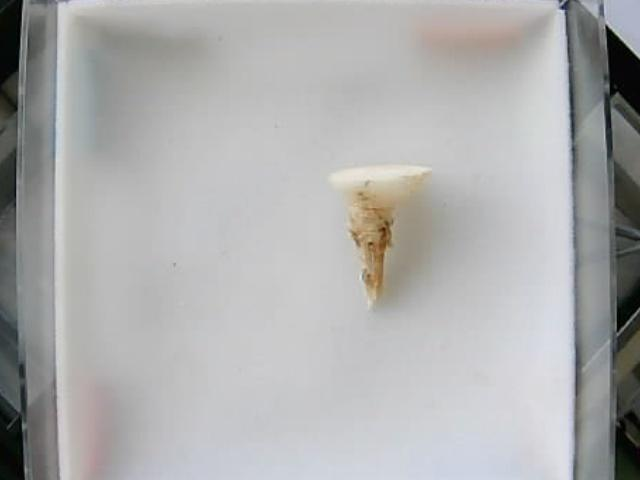Mooli: (328, 163, 429, 308)
